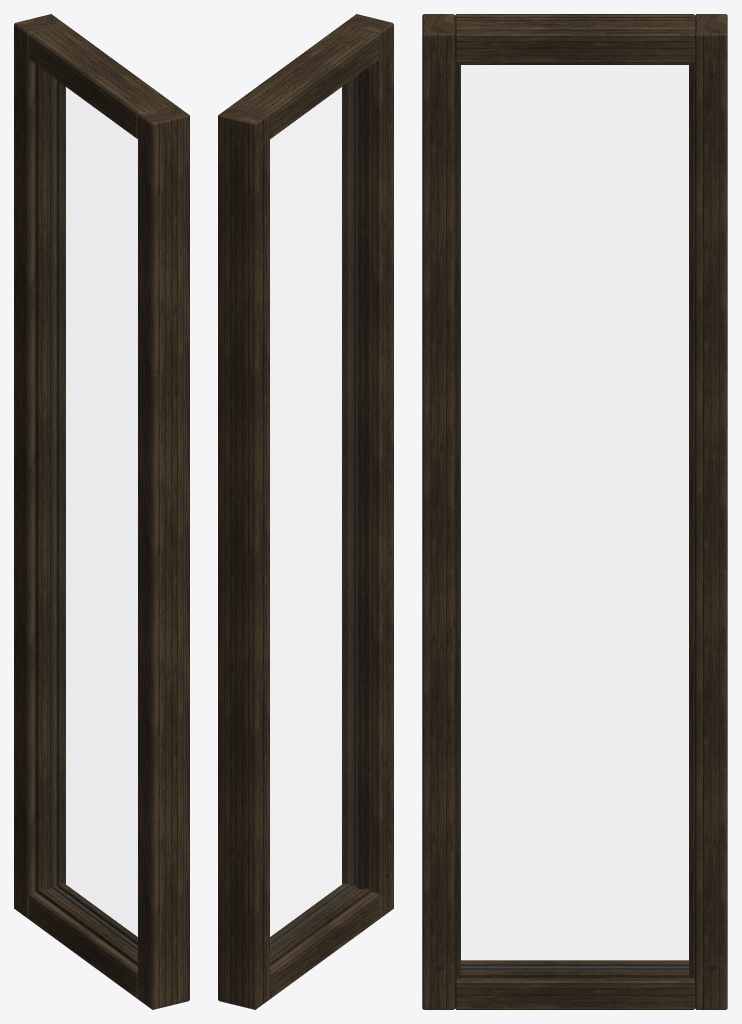
3 renders of one model, left to right at view 1: azimuth 30°, elevation 25°; view 2: azimuth 150°, elevation 25°; view 3: azimuth 270°, elevation 25°, orthographic. The views are drawn at different scales.
Visible parts, largest first — view 1: Mesh_JoinedTimberAndGlazingStops, Mesh_RecessedWeatherSeal; view 2: Mesh_JoinedTimberAndGlazingStops, Mesh_RecessedWeatherSeal; view 3: Mesh_JoinedTimberAndGlazingStops, Mesh_RecessedWeatherSeal.
Boxes of the visible parts, x1=… form: Mesh_JoinedTimberAndGlazingStops: x1=14, y1=14, x2=189, y2=1009; Mesh_RecessedWeatherSeal: x1=50, y1=75, x2=137, y2=950; Mesh_JoinedTimberAndGlazingStops: x1=218, y1=14, x2=393, y2=1009; Mesh_RecessedWeatherSeal: x1=270, y1=75, x2=357, y2=950; Mesh_JoinedTimberAndGlazingStops: x1=422, y1=14, x2=727, y2=1009; Mesh_RecessedWeatherSeal: x1=460, y1=65, x2=689, y2=969.
Size of the model in its own units: 0.182 by 3.95 by 1.12.
3 materials, 1 textured.
